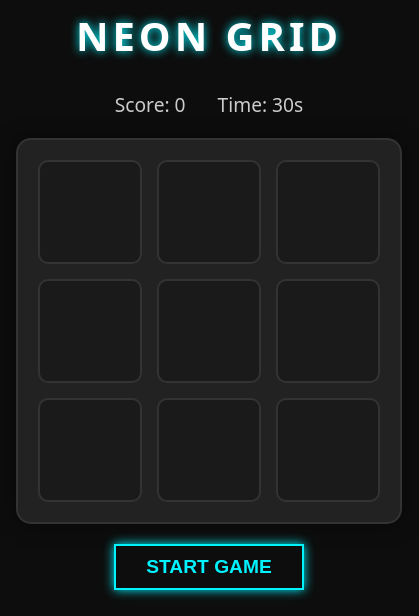
game starts when start button is clicked
// Click the start button
Click the button "Start Game": (209, 567) [114, 544, 304, 590]
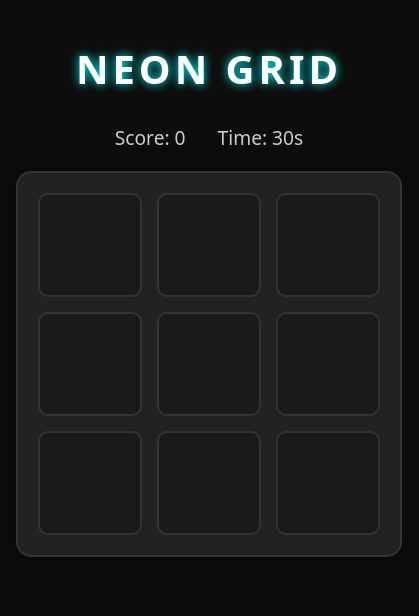
Expected: the text "Score: 0" is shown, [115, 124, 186, 151]
Now the button "Start Game" is gone
